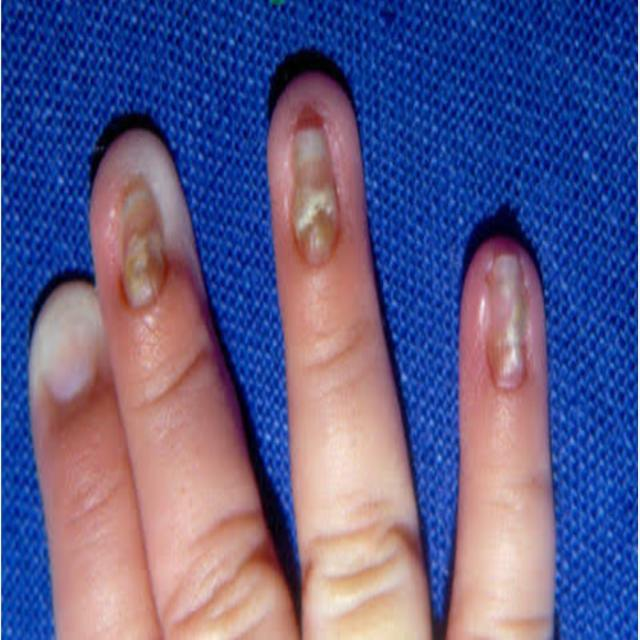diabetes: (291, 120, 342, 263), (119, 180, 166, 305), (487, 253, 527, 388)
sehat: (40, 303, 99, 405)
